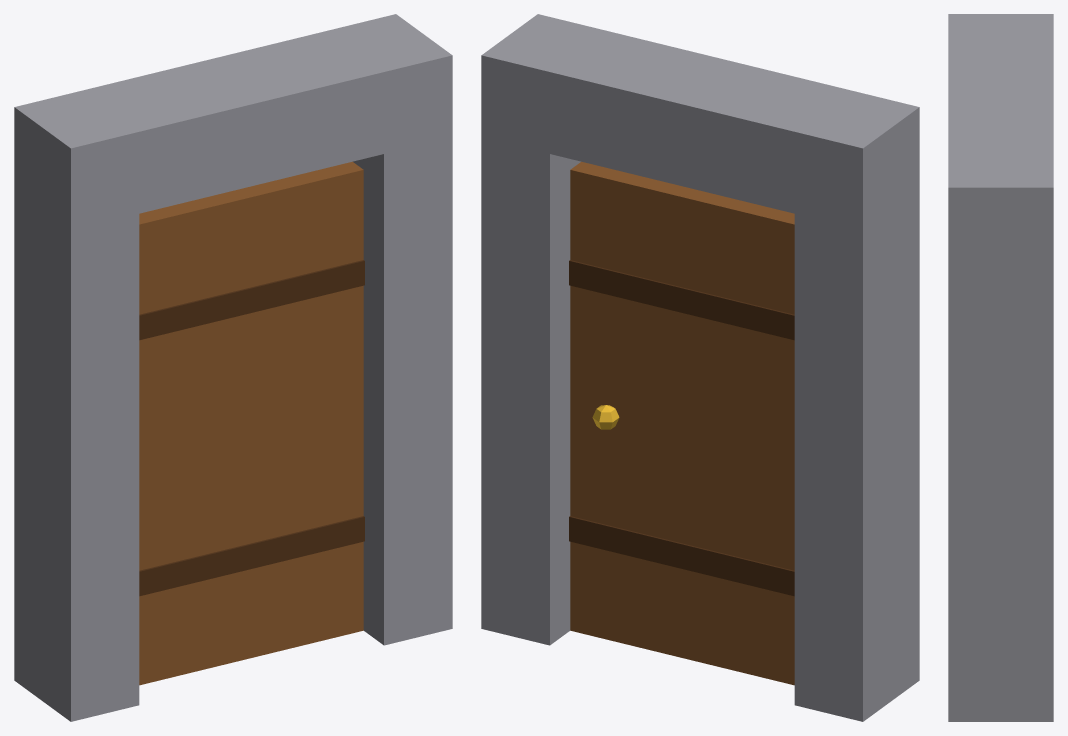
The model's file is door.glb.
The picture shows the model from 3 angles, left to right: view 1: azimuth 30°, elevation 25°; view 2: azimuth 150°, elevation 25°; view 3: azimuth 270°, elevation 25°; orthographic projection. The views are drawn at different scales.
Visible parts, largest first — view 1: DoorFrame, DoorDoorPanel; view 2: DoorFrame, DoorDoorPanel; view 3: DoorFrame.
Boxes of the visible parts, <box> form: DoorFrame: <box>14,14,452,721</box>; DoorDoorPanel: <box>139,161,364,685</box>; DoorFrame: <box>481,14,919,721</box>; DoorDoorPanel: <box>569,161,794,685</box>; DoorFrame: <box>948,14,1053,721</box>.
Size of what is drawn, in the model's own units: 1.95 by 2.8 by 0.5.
